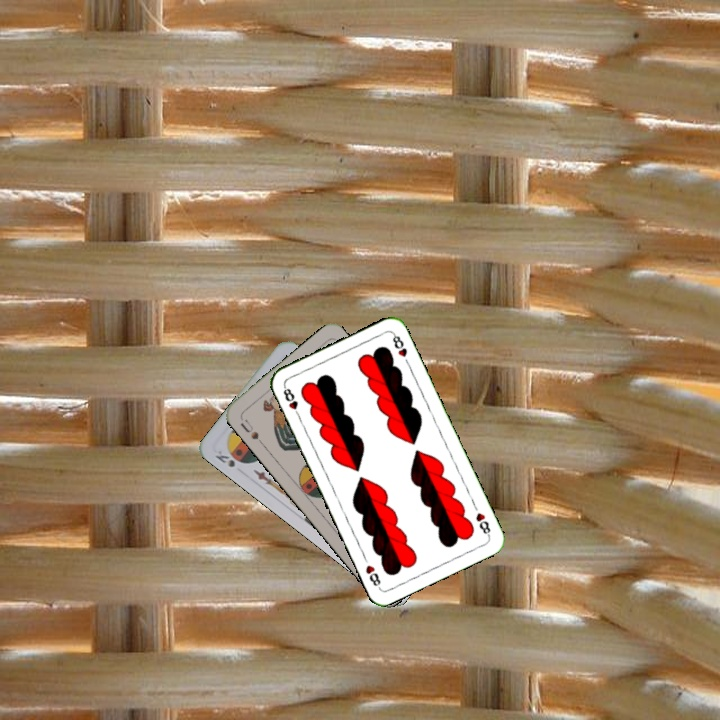H8: (279, 382, 303, 420), (472, 508, 493, 539)
SK: (211, 446, 238, 470)
SU: (237, 414, 267, 448)
